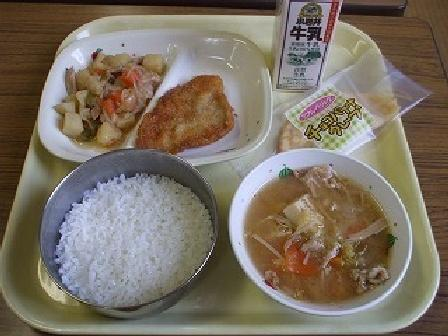Milk: (269, 0, 344, 94)
Rice: (45, 165, 216, 303)
cutlet: (152, 66, 243, 158)
pastry: (274, 85, 411, 150)
vegetable based cooked food: (56, 47, 145, 131)
vegetable soup: (242, 157, 400, 306)
